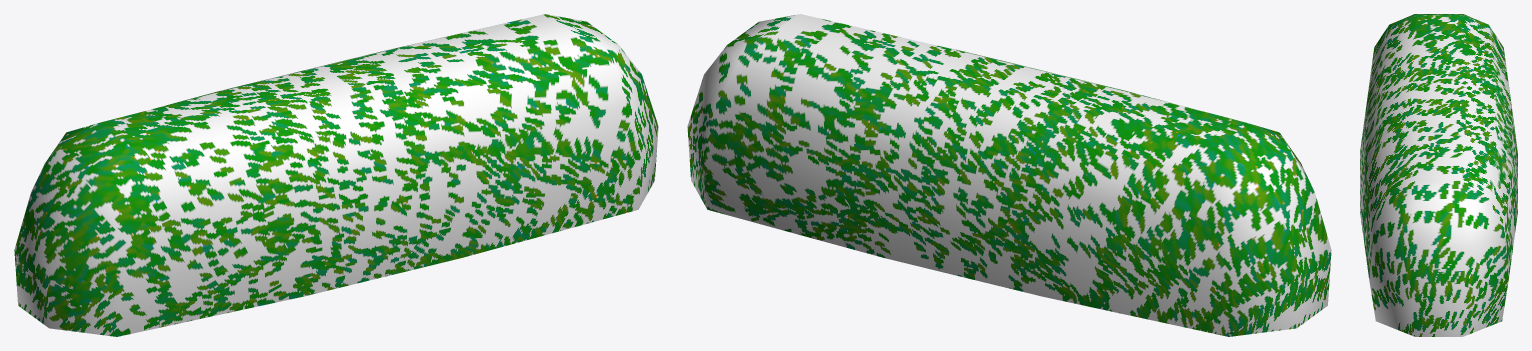
Rendered from Hedge (Branches).fbx.
The picture shows the model from 3 angles, left to right: view 1: azimuth 30°, elevation 25°; view 2: azimuth 150°, elevation 25°; view 3: azimuth 270°, elevation 25°; orthographic projection. The views are drawn at different scales.
Parts seen in each view (by area): view 1: polySurface1; view 2: polySurface1; view 3: polySurface1.
Part boxes in pixels (bbox=[...]): polySurface1: bbox=[14, 14, 658, 336]; polySurface1: bbox=[687, 14, 1331, 336]; polySurface1: bbox=[1360, 14, 1517, 336].
Bounding box in the file's own units: 7.72 × 1.99 × 2.27.
